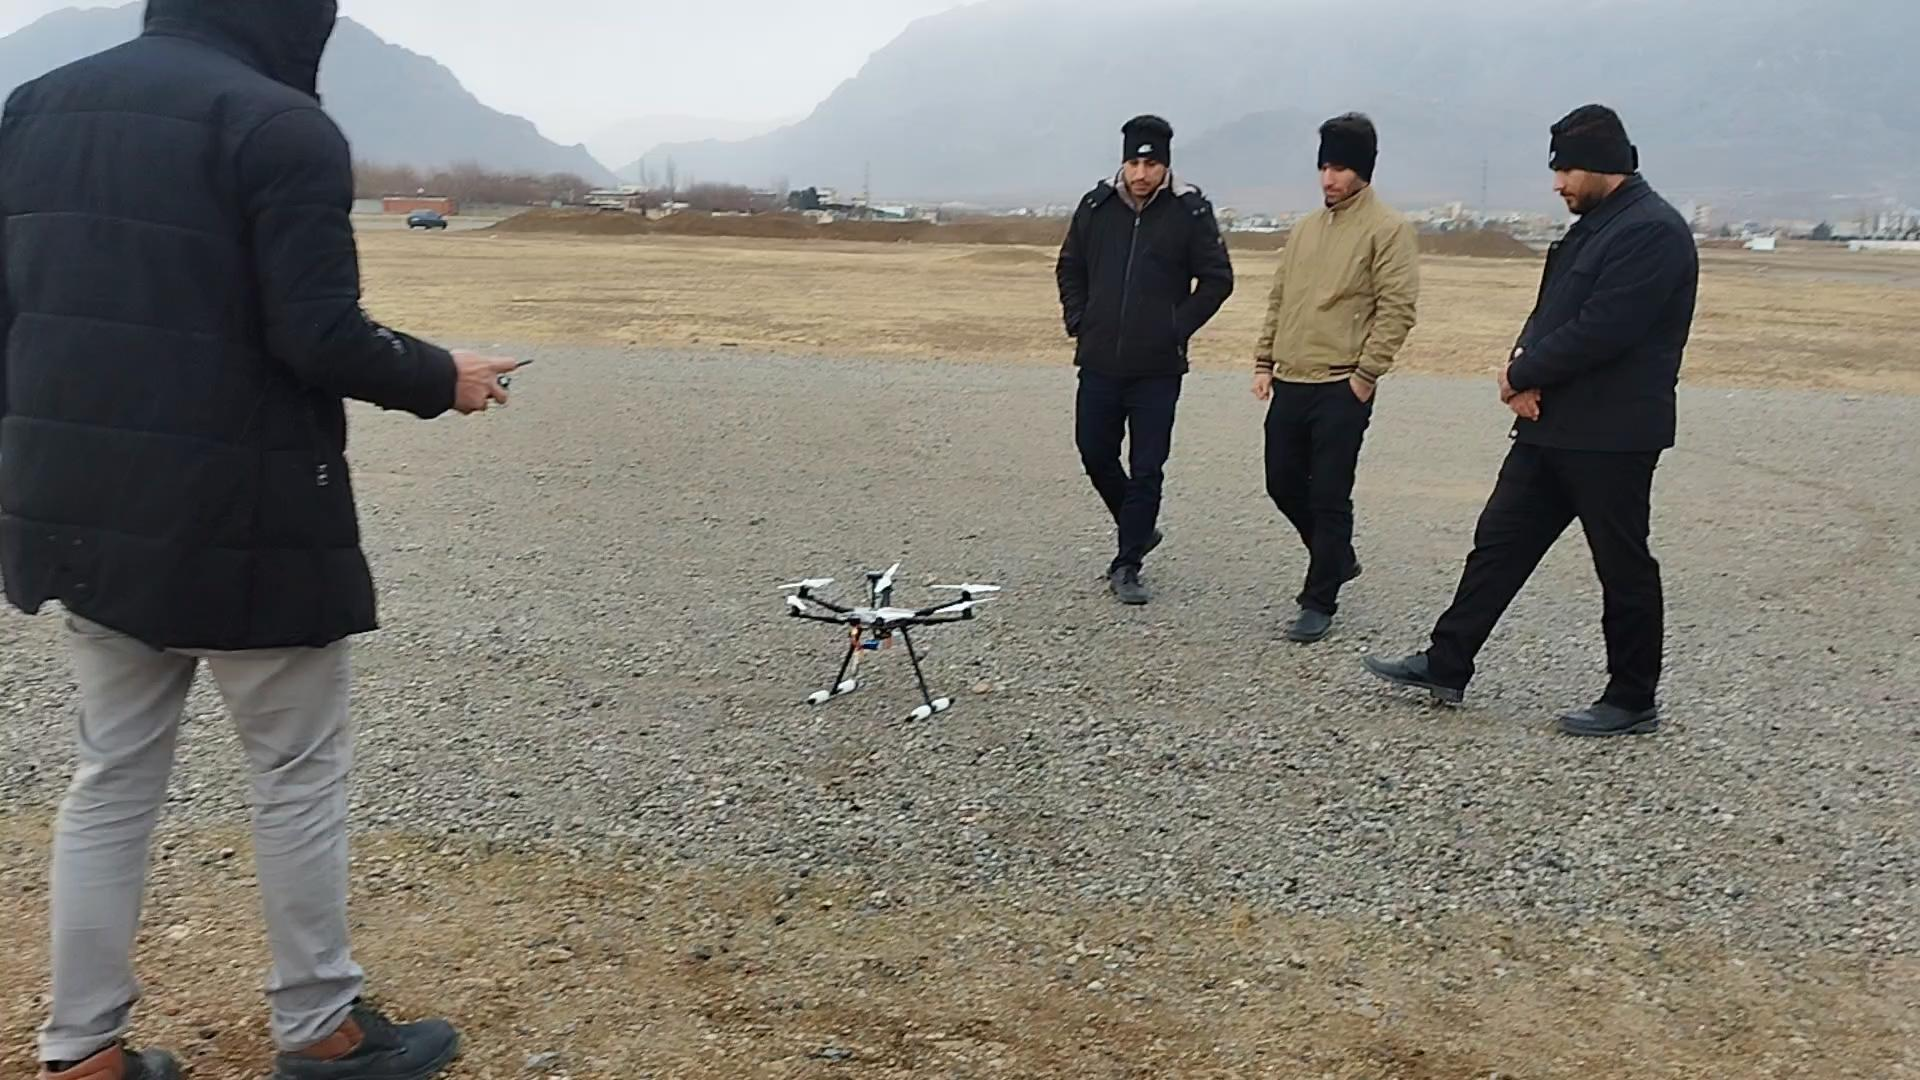drone: (774, 559, 1001, 724)
